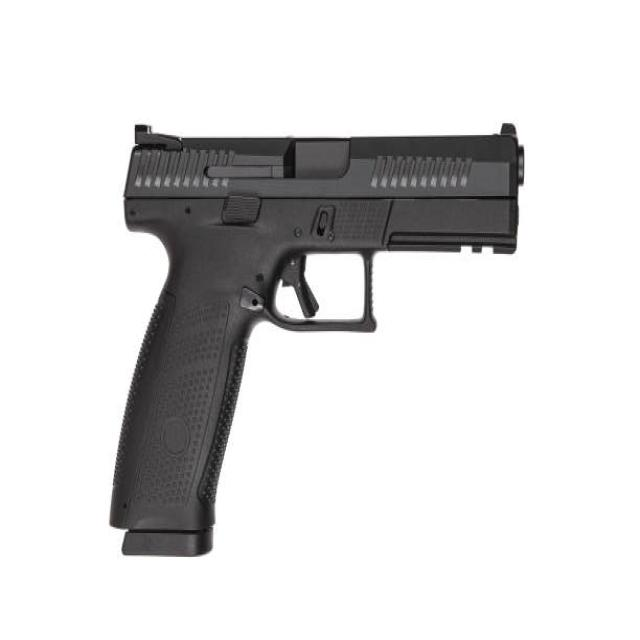pistol: (107, 118, 536, 564)
